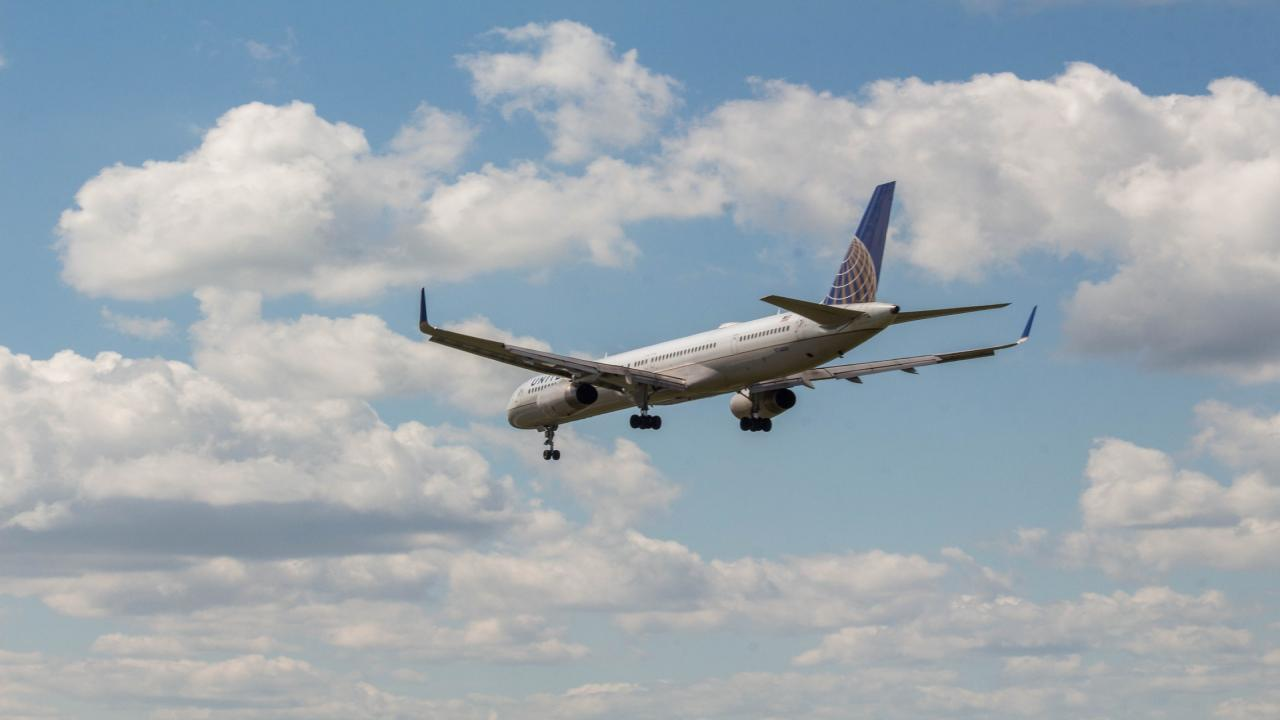Airplane: (394, 170, 1065, 475)
